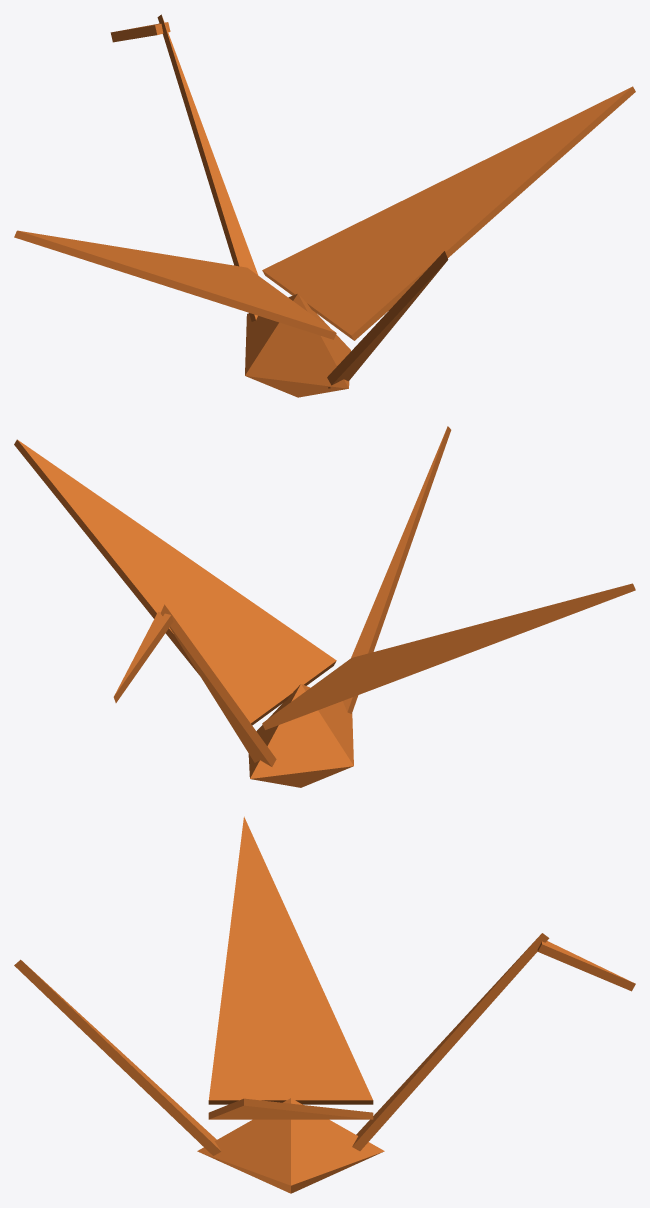
The model's file is perch_crane.glb.
The picture shows the model from 3 angles, top to bottom: view 1: azimuth 30°, elevation 25°; view 2: azimuth 150°, elevation 25°; view 3: azimuth 270°, elevation 25°; orthographic projection. The views are drawn at different scales.
Parts seen in each view (by area): view 1: wing_l, body, wing_r, head; view 2: wing_l, body, wing_r, head; view 3: wing_r, body, head, wing_l.
Boxes of the visible parts, bbox=[...] form: wing_l: bbox=[262, 86, 635, 340]; body: bbox=[245, 251, 448, 397]; wing_r: bbox=[14, 230, 336, 339]; head: bbox=[110, 14, 258, 321]; wing_l: bbox=[14, 439, 336, 725]; body: bbox=[248, 426, 451, 787]; wing_r: bbox=[262, 583, 635, 729]; head: bbox=[113, 604, 276, 766]; wing_r: bbox=[208, 816, 373, 1104]; body: bbox=[14, 959, 384, 1193]; head: bbox=[352, 933, 635, 1150]; wing_l: bbox=[208, 1098, 373, 1119].
Bounding box in the file's own units: 0.4221 × 0.1838 × 0.397.
